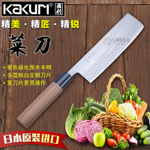knief: (19, 12, 143, 129)
